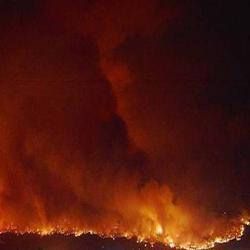fire: (178, 237, 214, 248), (158, 218, 171, 241)
